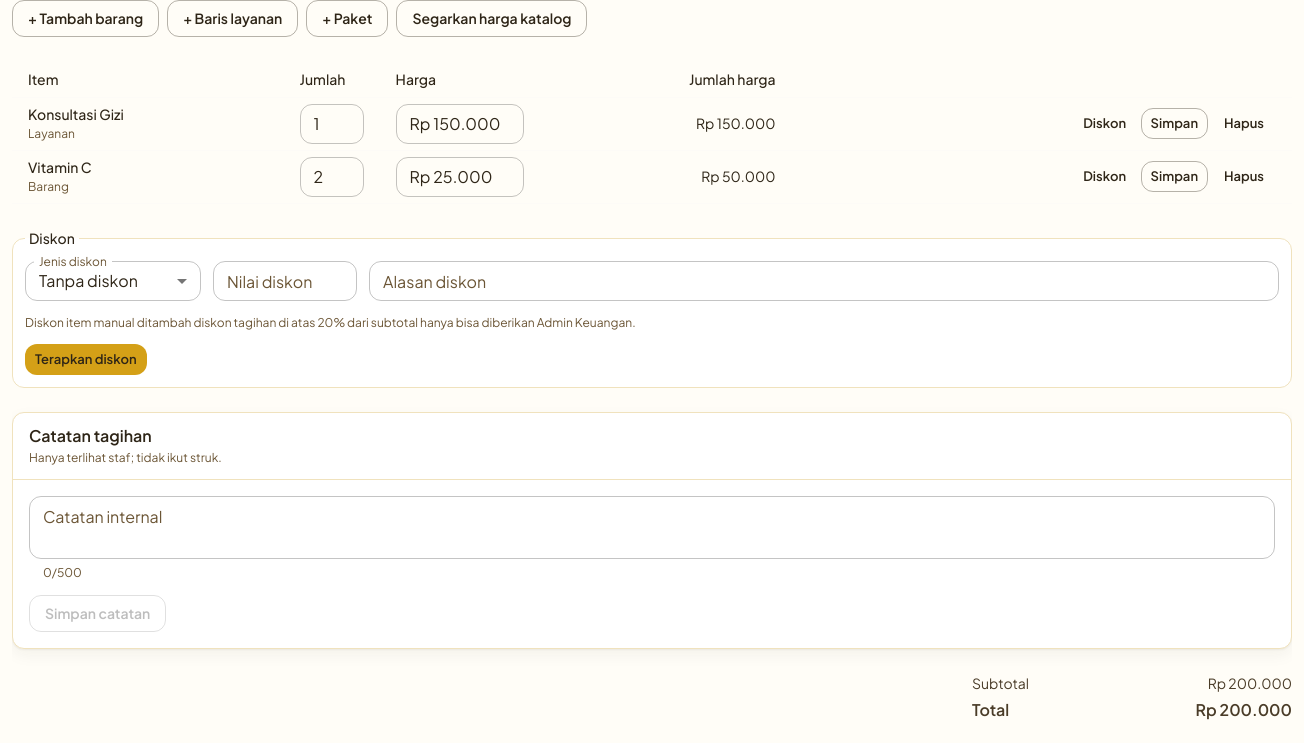
editor draf tagihan › harga katalog yang diubah tanpa catatan ditolak di layar sebelum dikirim
Clear the field named "Harga Konsultasi Gizi": (460,124) [396, 104, 524, 144]
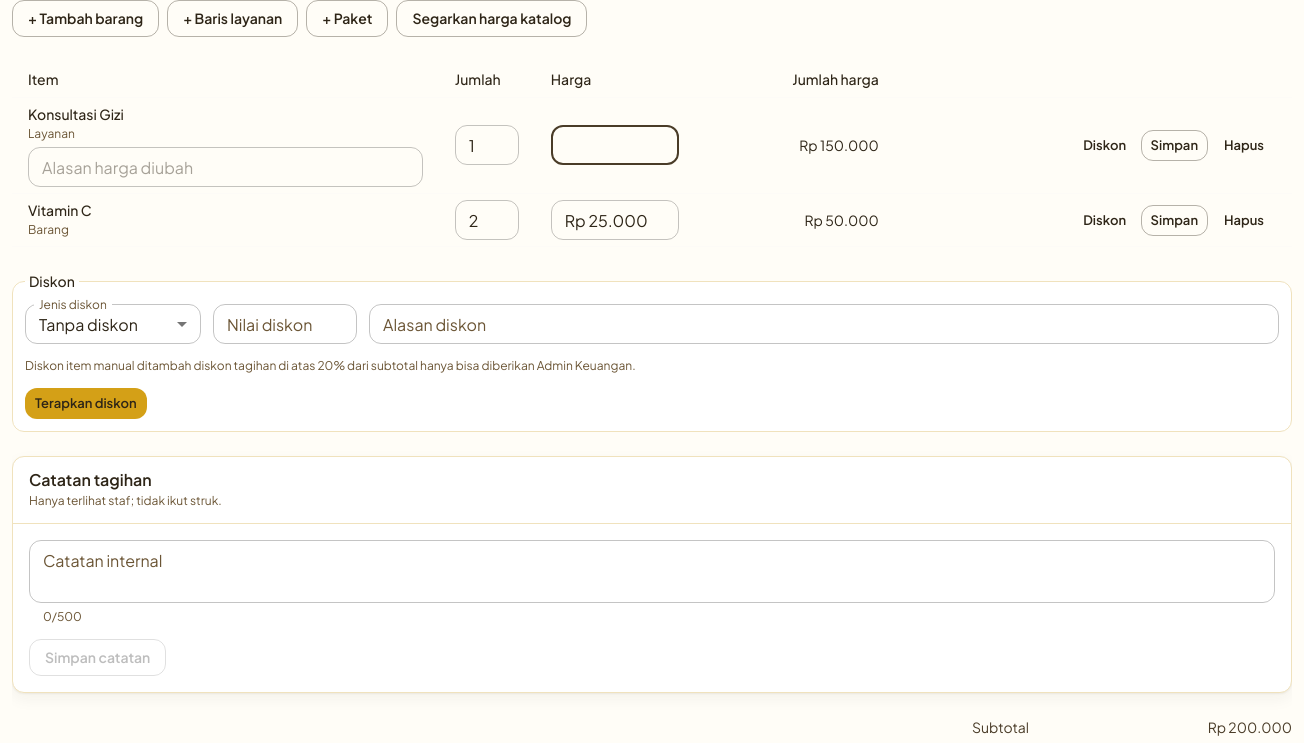
In the field named "Harga Konsultasi Gizi": (615,146) [551, 126, 679, 166], type "100000"
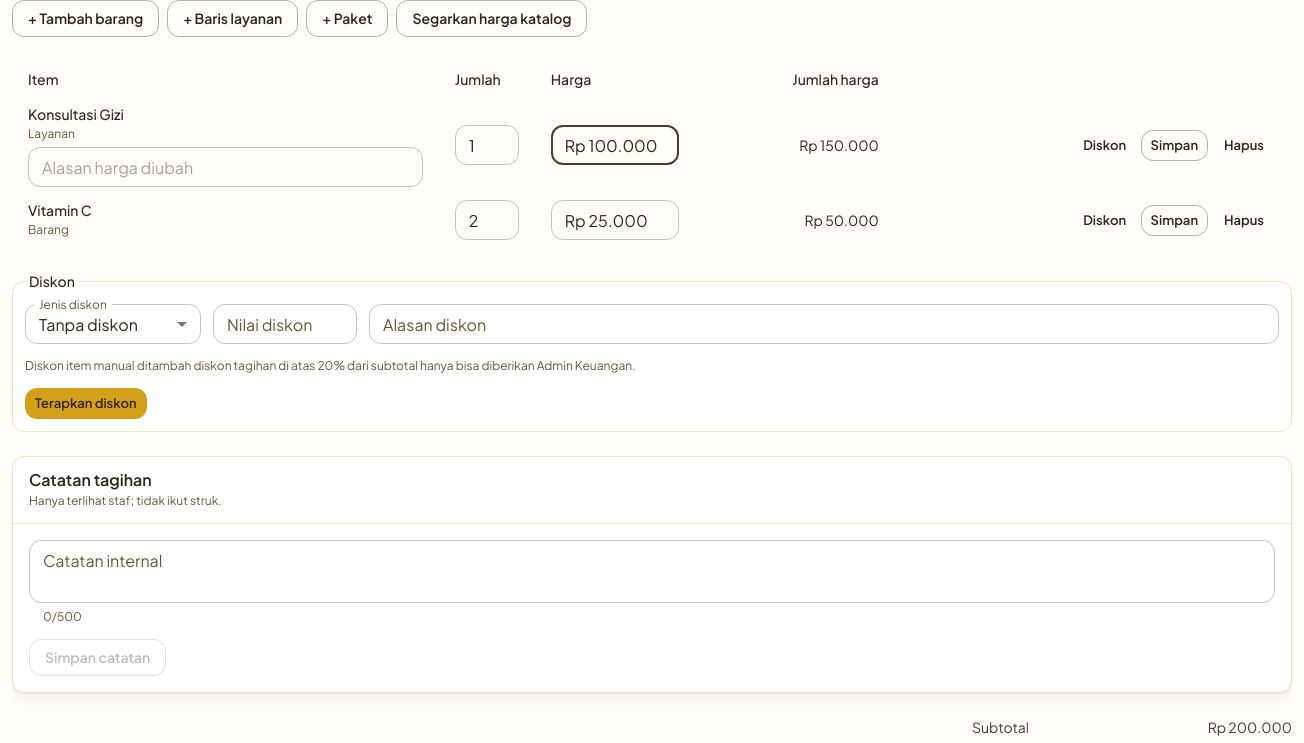
Click the button with aria-label "Simpan baris Konsultasi Gizi": (1174,146) [1141, 130, 1208, 161]
(page scrolled)
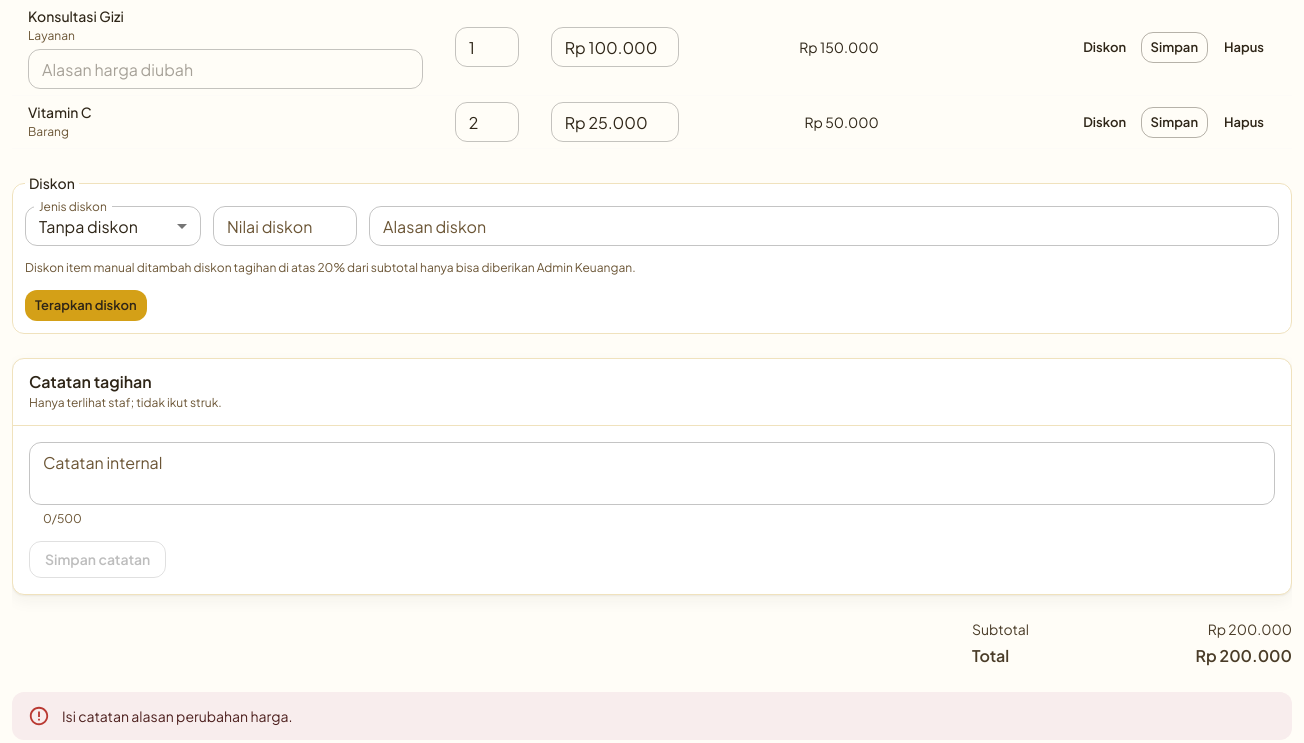
Now the message shows "catatan", box [62, 707, 293, 725]
